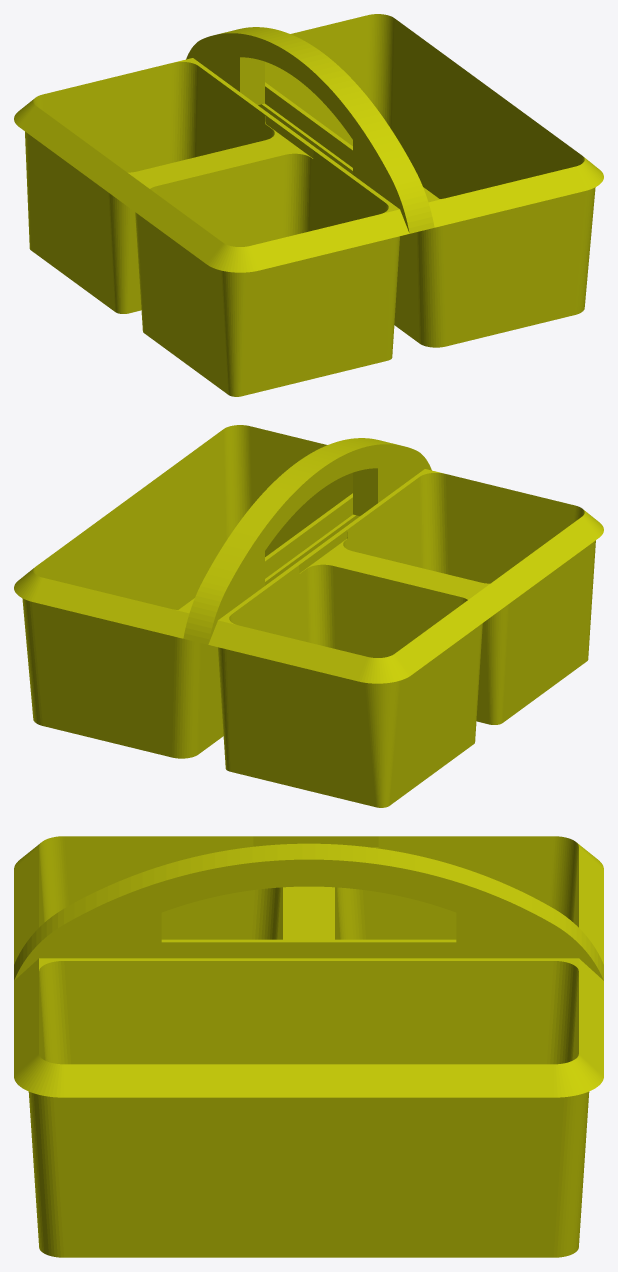
Rendered from Romanoff_Small_Utility_Caddy_cof_yellow.dae.
3 renders of one model, top to bottom at view 1: azimuth 30°, elevation 25°; view 2: azimuth 150°, elevation 25°; view 3: azimuth 270°, elevation 25°, orthographic. The views are drawn at different scales.
Parts seen in each view (by area): view 1: _c62c69ebbda3019535ef0d7; view 2: _c62c69ebbda3019535ef0d7; view 3: _c62c69ebbda3019535ef0d7.
Boxes of the visible parts, x1,y1,x2,y2 form: _c62c69ebbda3019535ef0d7: [14, 14, 603, 396]; _c62c69ebbda3019535ef0d7: [14, 425, 603, 807]; _c62c69ebbda3019535ef0d7: [14, 836, 603, 1257].
Bounding box in the file's own units: 0.235 × 0.235 × 0.1283.
